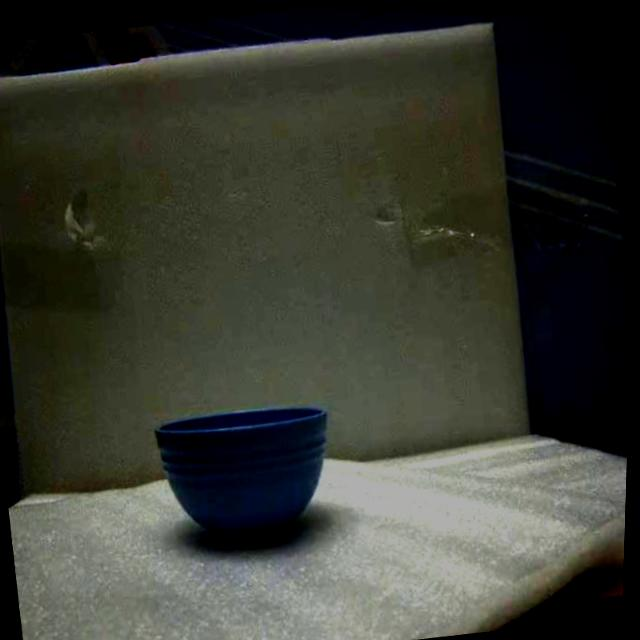Bowl: (155, 409, 327, 539)
